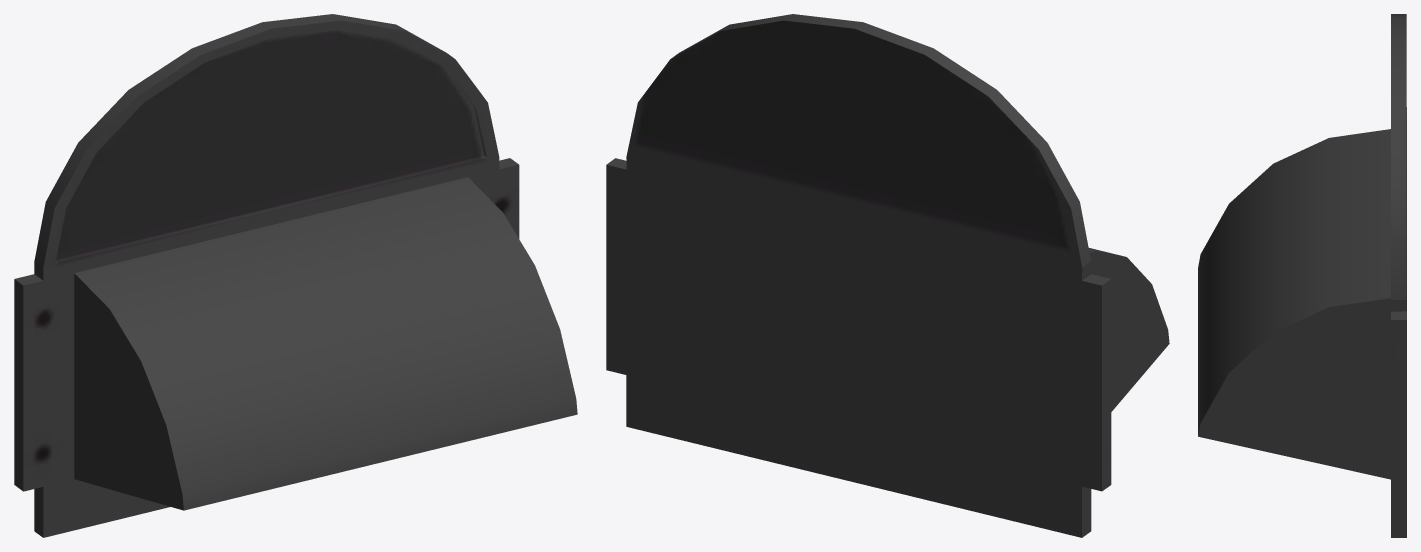
Rendered from Light_Wall01.dae.
3 views of the same model, side by side, from view 1: azimuth 30°, elevation 25°; view 2: azimuth 150°, elevation 25°; view 3: azimuth 270°, elevation 25° (orthographic). The views are drawn at different scales.
Parts seen in each view (by area): view 1: polySurface36; view 2: polySurface36; view 3: polySurface36.
Boxes of the visible parts, <box> form: polySurface36: <box>14,14,577,537</box>; polySurface36: <box>606,14,1169,537</box>; polySurface36: <box>1198,14,1406,537</box>.
Bounding box in the file's own units: 0.6425 × 0.5618 × 0.2661.
Materials: 1 (1 with a texture image).
